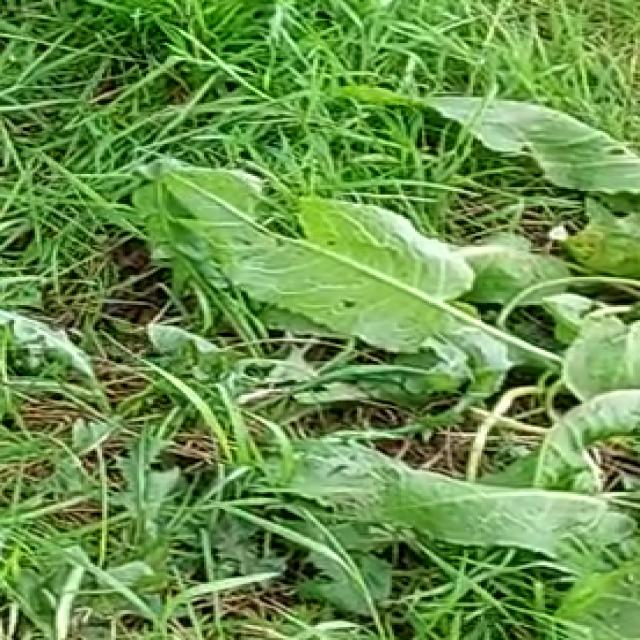organic waste: (120, 105, 640, 640)
